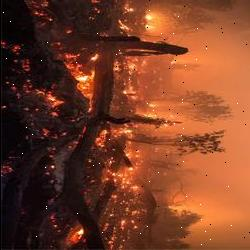fire: (2, 0, 156, 247)
